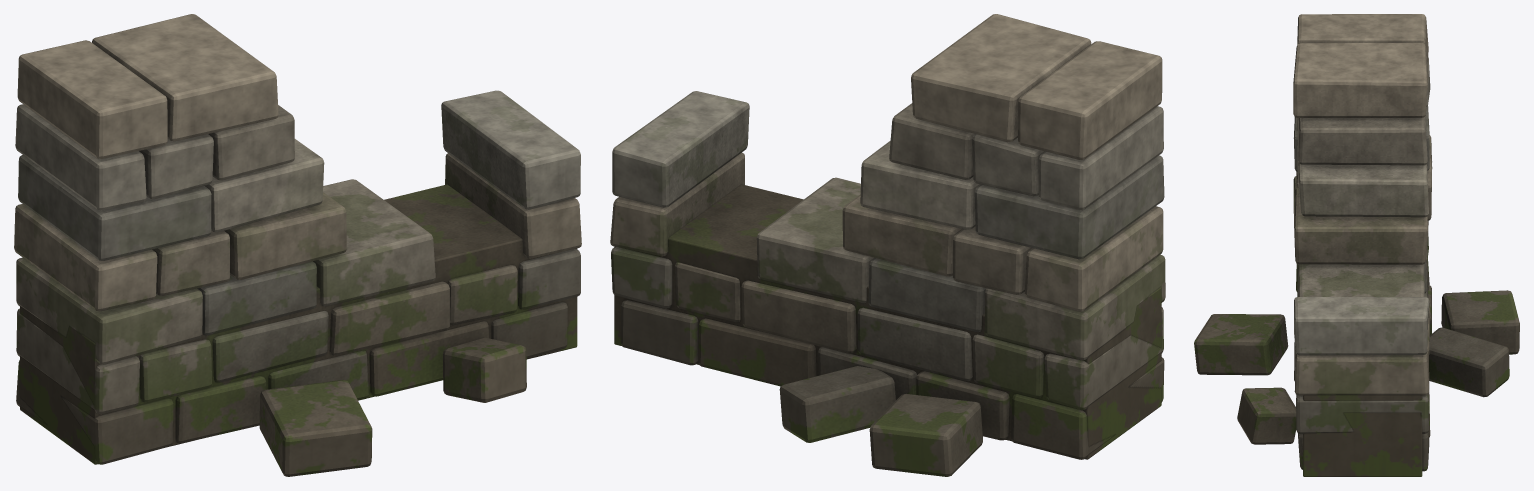
Rendered from cenario_ruina_cal.glb.
3 renders of one model, left to right at view 1: azimuth 30°, elevation 25°; view 2: azimuth 150°, elevation 25°; view 3: azimuth 270°, elevation 25°, orthographic. The views are drawn at different scales.
Parts seen in each view (by area): view 1: cenario_ruina_cal_tronco; view 2: cenario_ruina_cal_tronco; view 3: cenario_ruina_cal_tronco.
Part boxes in pixels (x1,y1,x2,y2): cenario_ruina_cal_tronco: (14,14,581,476); cenario_ruina_cal_tronco: (610,14,1165,476); cenario_ruina_cal_tronco: (1194,14,1519,476).
Bounding box in the file's own units: 4 × 2.84 × 2.95.
1 material, 1 textured.
